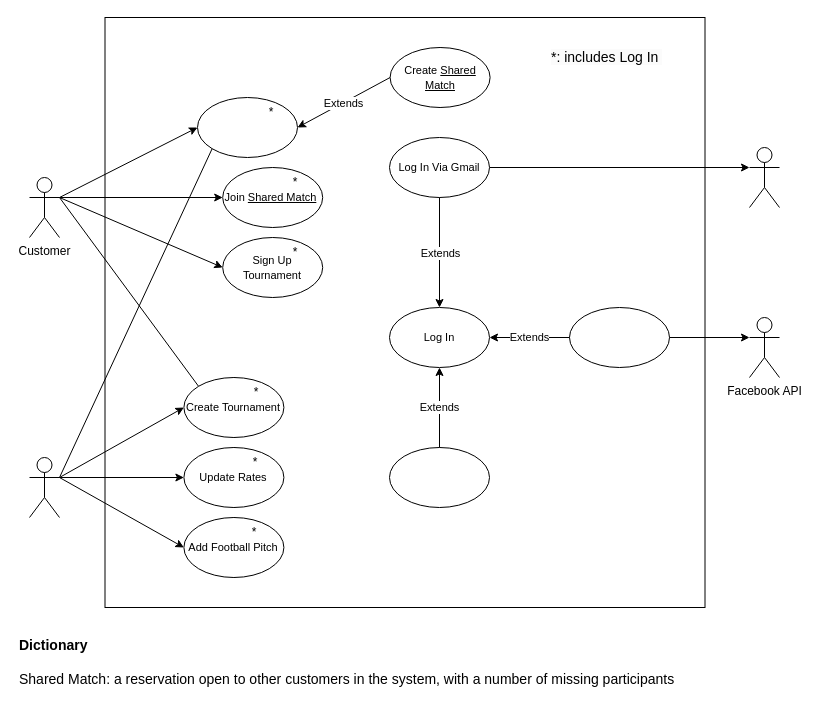
Some shapes in this 819 by 715 pixel diagram are drawn without their labels. Here are the shapes that lost their labels. From the top down, the box of each, then its label:
(196, 96, 298, 158): Reserve Football Pitch
(748, 146, 780, 208): Google API
(568, 306, 670, 368): Log In Via Facebook
(28, 456, 60, 518): Manager
(388, 446, 490, 508): Create Account
